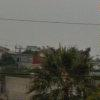Palm tree: (41, 41, 92, 100)
